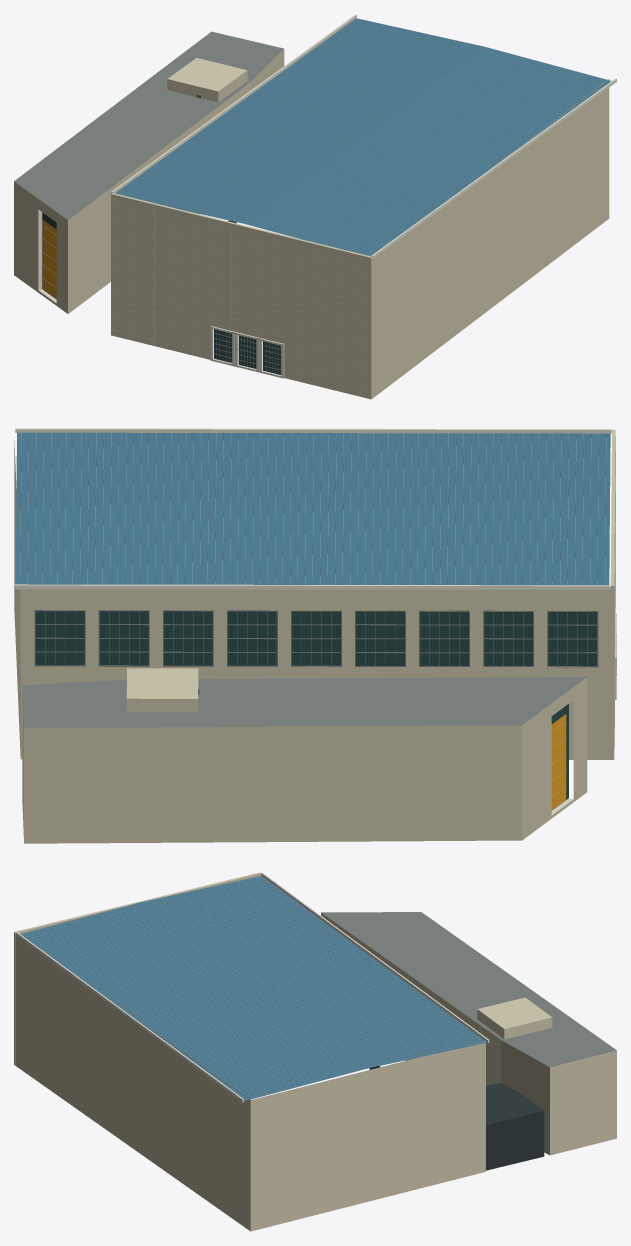
The model's file is osm_way_223944208.glb.
The picture shows the model from 3 angles, top to bottom: view 1: azimuth 30°, elevation 25°; view 2: azimuth 150°, elevation 25°; view 3: azimuth 270°, elevation 25°; orthographic projection. The views are drawn at different scales.
Visible parts, largest first — view 1: Old gym | large hall and lower offset wing, Old gym | stone portals joints and standing seams, Old gym | actual large window groups and recessed link; view 2: Old gym | large hall and lower offset wing, Old gym | stone portals joints and standing seams, Old gym | actual large window groups and recessed link; view 3: Old gym | large hall and lower offset wing, Old gym | stone portals joints and standing seams.
Part boxes in pixels (x1,y1,x2,y2): Old gym | large hall and lower offset wing: (14,18,611,399); Old gym | stone portals joints and standing seams: (14,14,616,393); Old gym | actual large window groups and recessed link: (196,95,280,374); Old gym | large hall and lower offset wing: (14,429,615,843); Old gym | stone portals joints and standing seams: (14,428,616,839); Old gym | actual large window groups and recessed link: (35,610,596,694); Old gym | large hall and lower offset wing: (14,872,616,1231); Old gym | stone portals joints and standing seams: (16,872,489,1102).
Bounding box in the file's own units: 82.64 × 22.18 × 90.42.
